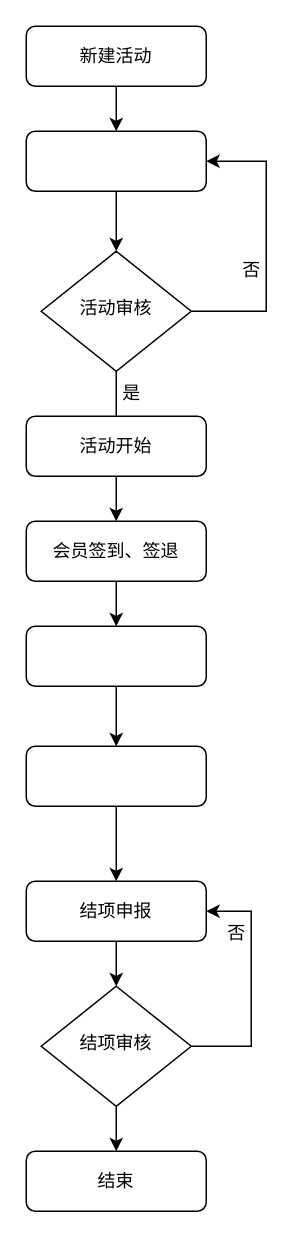
Image size: 308x1238. Some labels were removed from this diagram. Here are the shapes that lost their labels. From the top down, the centre of each, then its label:
the point at 115,160: 活动申报
the point at 115,655: 活动结束
the point at 115,775: 系统计算积分
